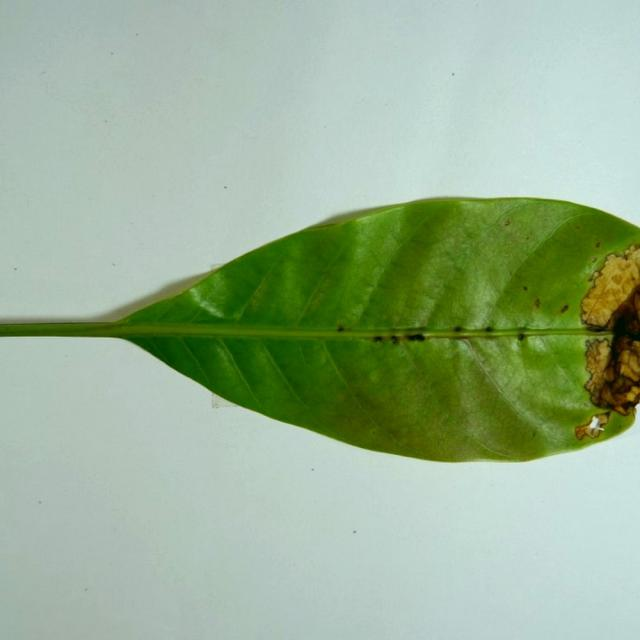Anthracnose: (585, 337, 612, 378), (579, 298, 604, 338), (615, 400, 637, 416), (614, 378, 633, 395), (624, 242, 638, 261), (486, 330, 511, 340), (575, 423, 590, 439), (590, 270, 604, 283), (635, 290, 640, 323), (633, 356, 640, 376), (613, 274, 623, 285), (369, 335, 383, 342), (176, 289, 184, 296)
Mango: (0, 198, 639, 466)
